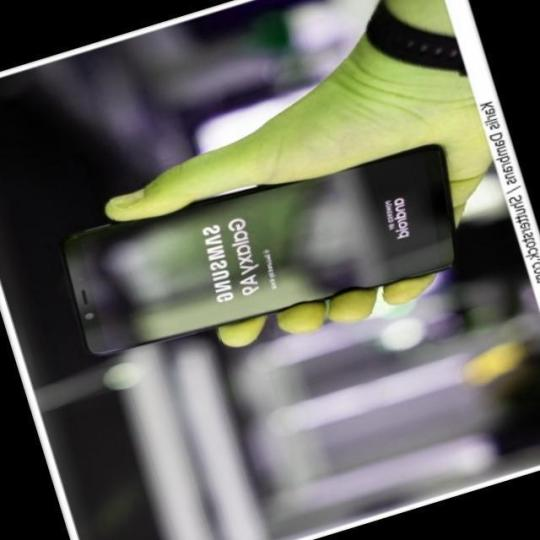phone: (56, 142, 464, 359)
